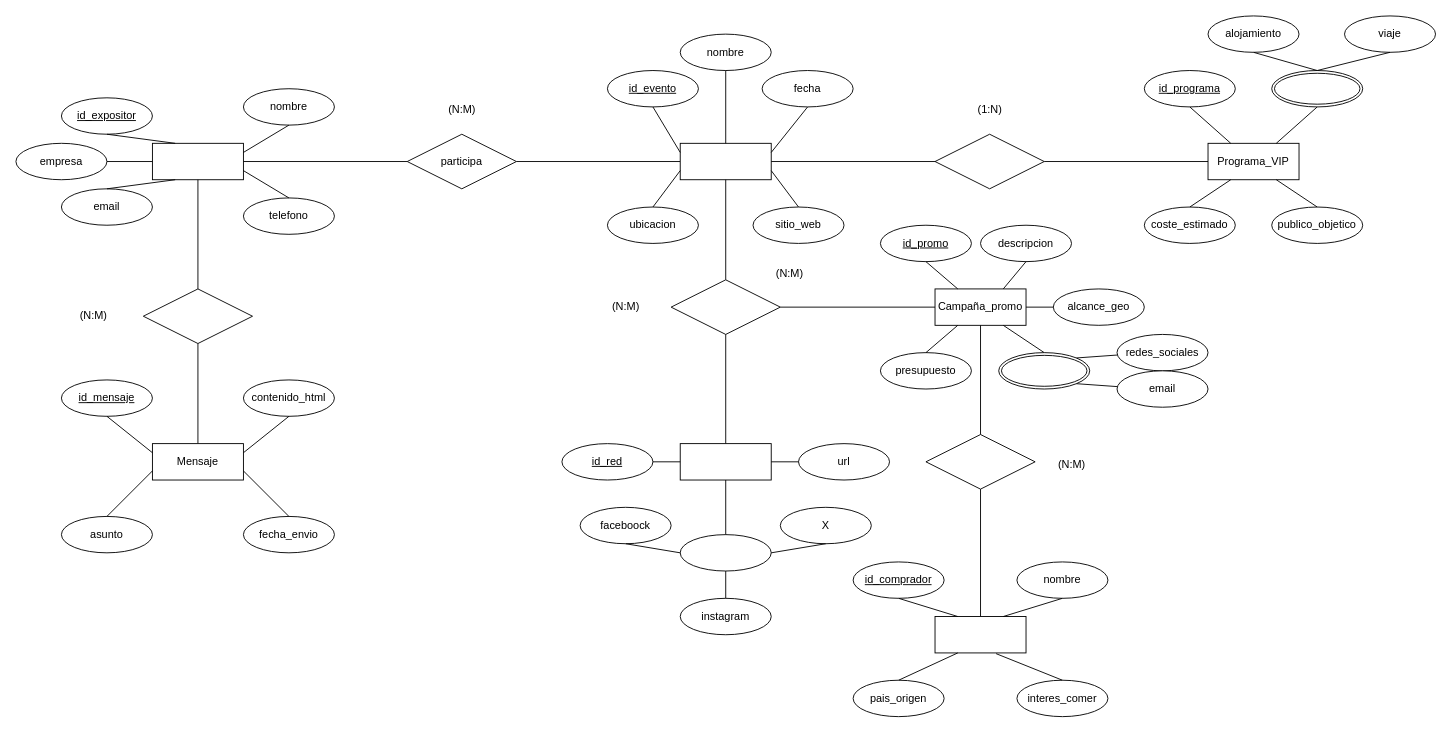
Image size: 1451x733. Some labels were removed from this diagram. Here are the shapes that lost their labels. From the top down, the centre of each, then its label:
At [1317,88]: "apoyo".
At [197,161]: "Expositor".
At [725,161]: "Evento".
At [989,161]: "ofrece".
At [197,316]: "recibe".
At [725,306]: "promociona".
At [1044,370]: "canales_usados".
At [725,461]: "red_social".
At [980,461]: "destinado".
At [725,552]: "plataforma".
At [980,634]: "Comprar_inter".
